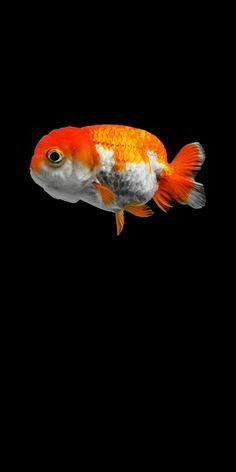goldfish: (18, 107, 221, 268)
